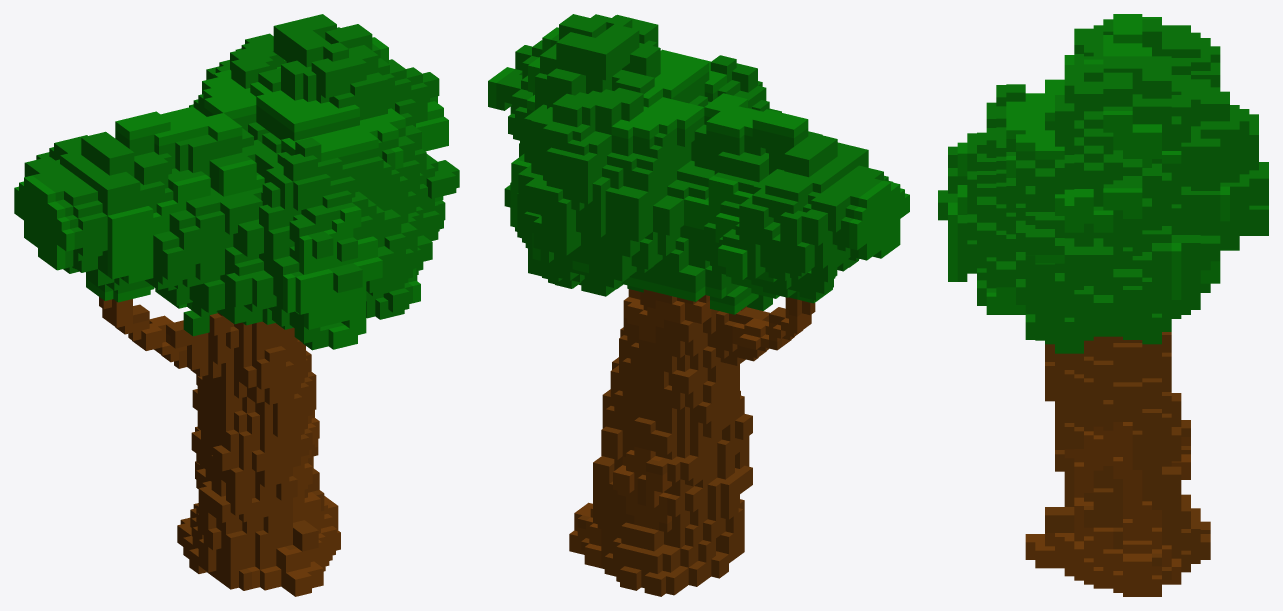
File: Tree02.obj
3 views of the same model, side by side, from view 1: azimuth 30°, elevation 25°; view 2: azimuth 150°, elevation 25°; view 3: azimuth 270°, elevation 25° (orthographic). The views are drawn at different scales.
Size of the model in its own units: 47 by 59 by 34.
1 material, 1 textured.
